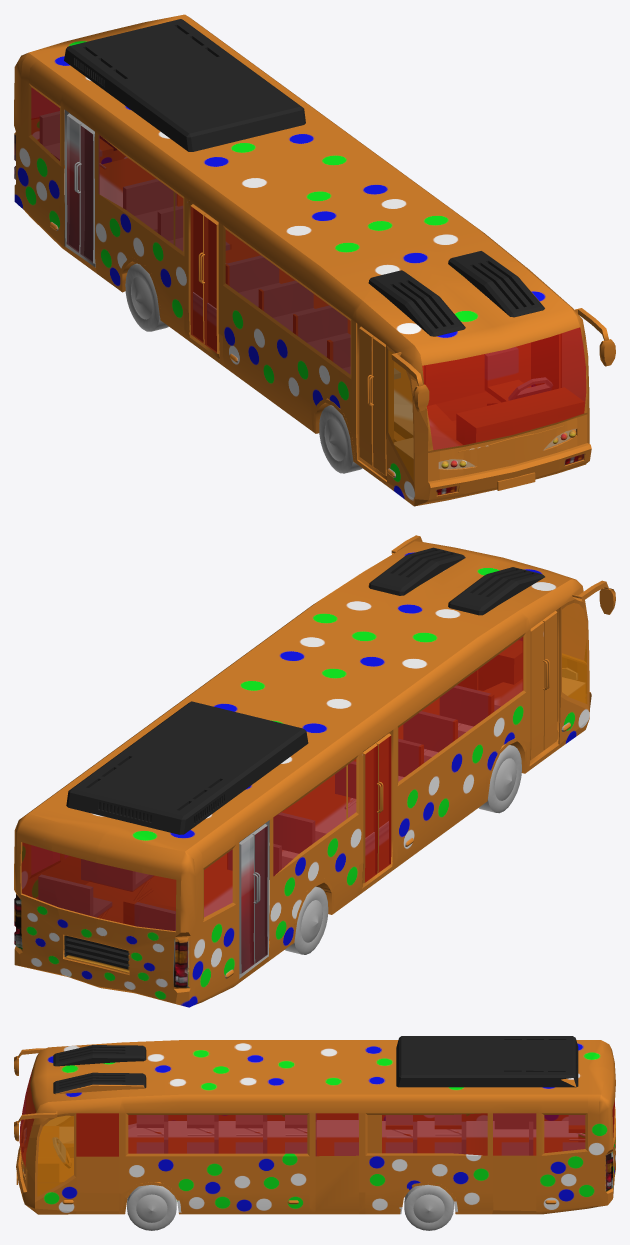
File: Bus_06_v3.fbx
The picture shows the model from 3 angles, top to bottom: view 1: azimuth 30°, elevation 25°; view 2: azimuth 150°, elevation 25°; view 3: azimuth 270°, elevation 25°; orthographic projection. The views are drawn at different scales.
Parts seen in each view (by area): view 1: Bus_6body, Bus_6_Glass, Bus_6_door_R, Bus_6_door_L, RR, FR; view 2: Bus_6body, Bus_6_Glass, Bus_6_door_L, Bus_6_door_R, FR, RR; view 3: Bus_6body, Bus_6_Glass, FL, RL.
Boxes of the visible parts, x1=… form: Bus_6body: x1=14, y1=14, x2=615, y2=506; Bus_6_Glass: x1=31, y1=87, x2=586, y2=480; Bus_6_door_R: x1=357, y1=324, x2=374, y2=469; Bus_6_door_L: x1=369, y1=336, x2=391, y2=479; RR: x1=125, y1=263, x2=168, y2=331; FR: x1=319, y1=405, x2=362, y2=473; Bus_6body: x1=14, y1=535, x2=615, y2=1007; Bus_6_Glass: x1=21, y1=603, x2=587, y2=973; Bus_6_door_L: x1=542, y1=608, x2=559, y2=754; Bus_6_door_R: x1=530, y1=621, x2=547, y2=764; FR: x1=479, y1=745, x2=521, y2=813; RR: x1=285, y1=886, x2=328, y2=954; Bus_6body: x1=14, y1=1036, x2=615, y2=1214; Bus_6_Glass: x1=19, y1=1069, x2=614, y2=1196; FL: x1=127, y1=1185, x2=176, y2=1230; RL: x1=404, y1=1184, x2=453, y2=1230.
Bounding box in the file's own units: 273 × 264 × 990.
